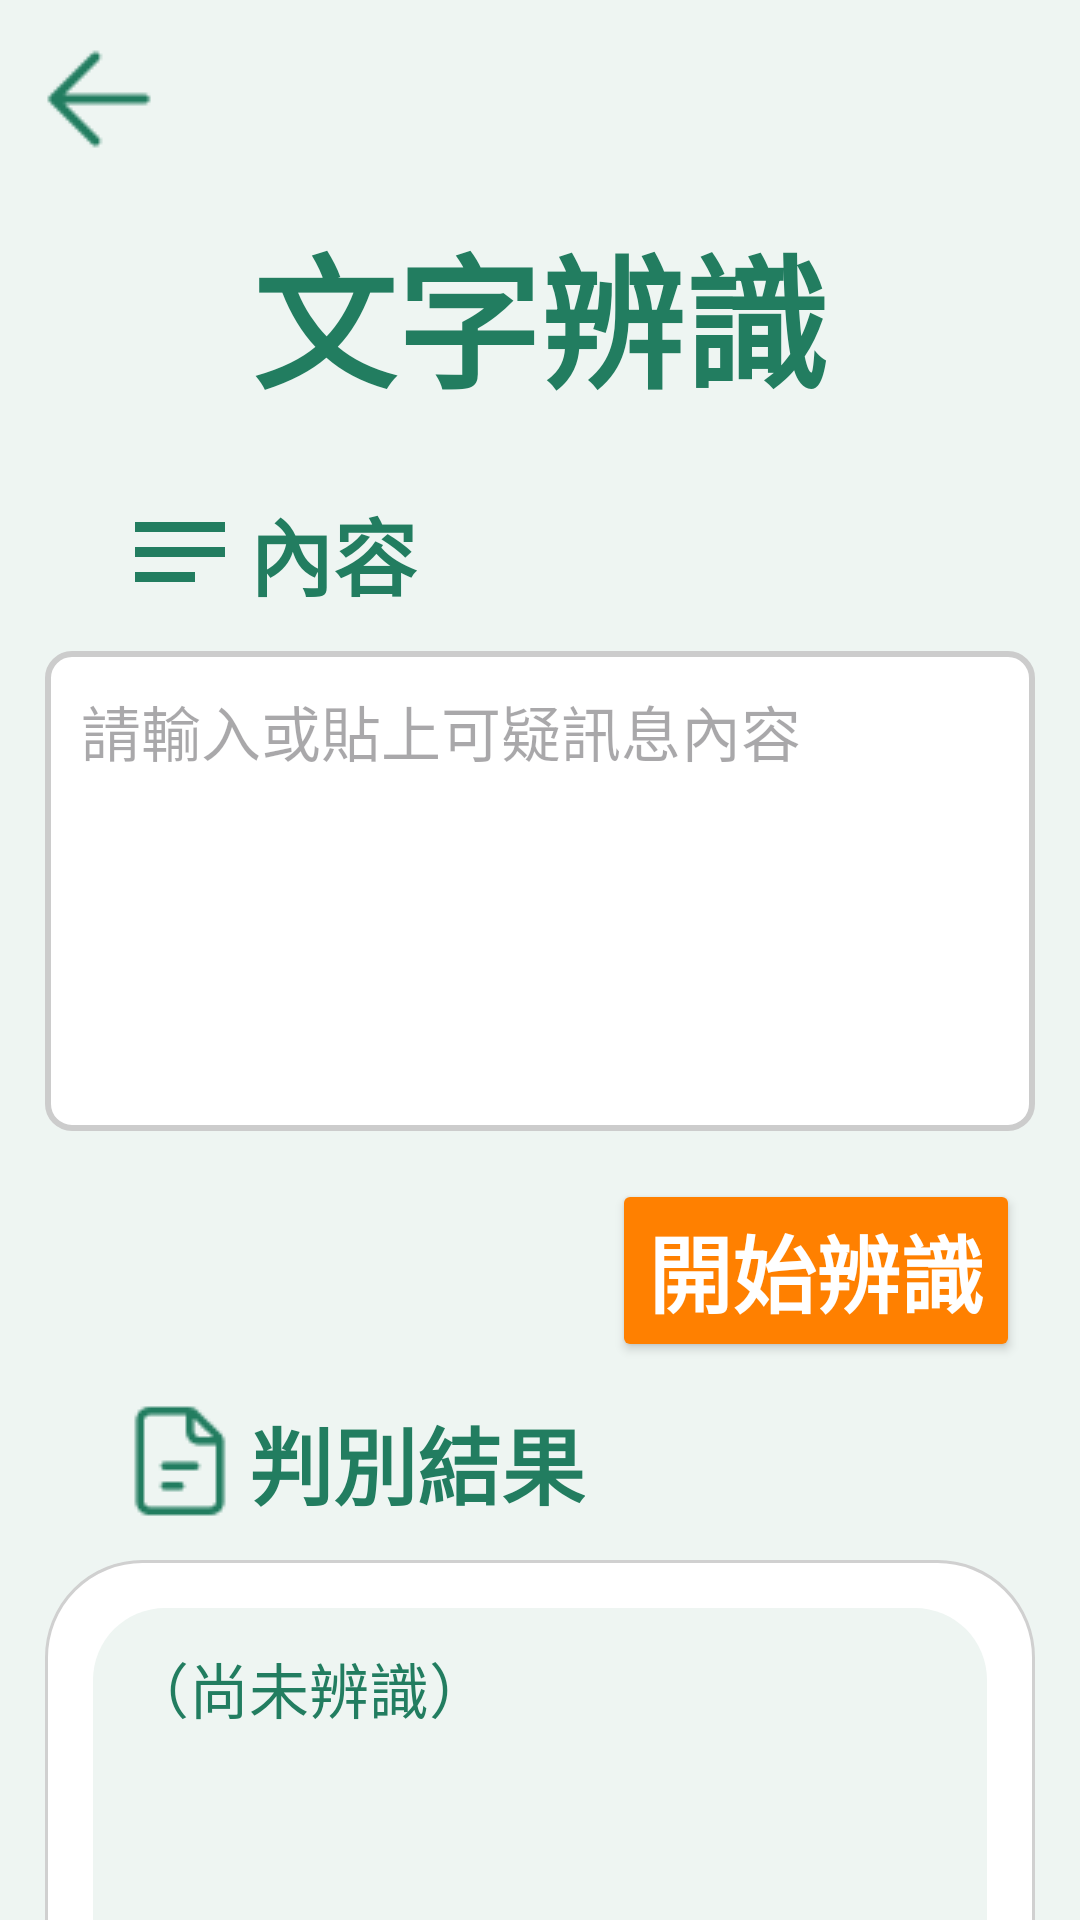

Locate icon controls on the screen. Image size 1080px x 1920px, boxes as (x1, y1, x2, y2).
文字圖示: (135, 522, 225, 582)
結果圖示: (134, 1406, 226, 1516)
返回: (47, 50, 151, 148)
